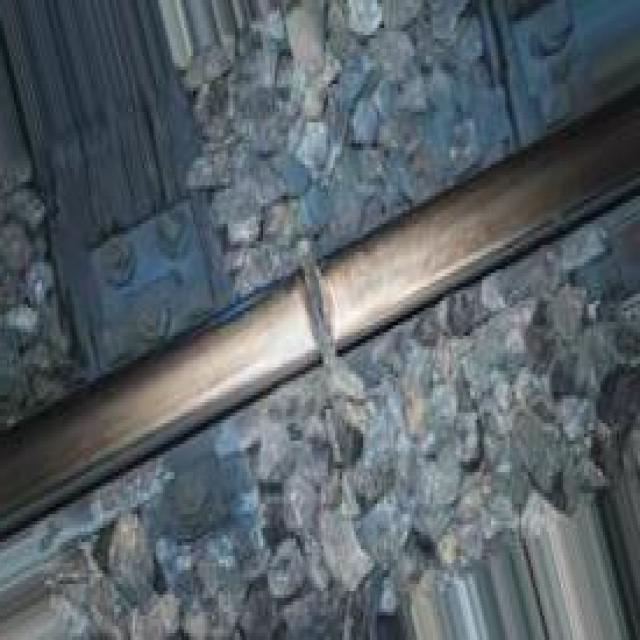crack: (281, 236, 364, 401)
